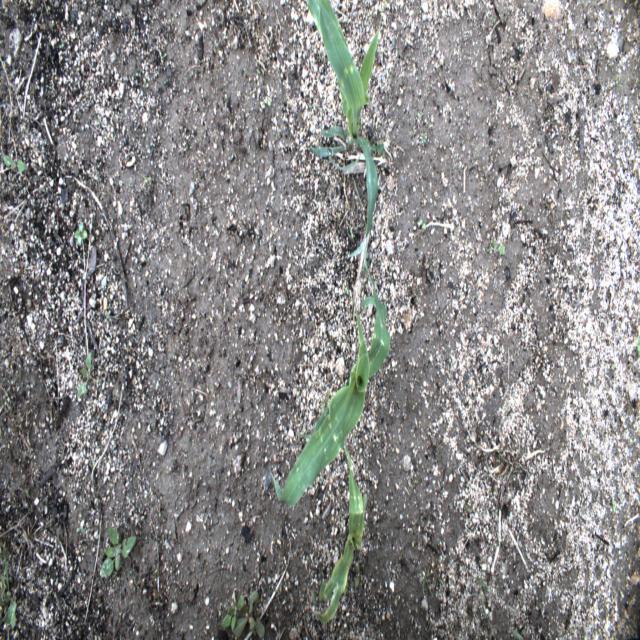crop: (268, 257, 390, 510), (303, 0, 386, 325), (310, 432, 368, 622)
weed: (0, 533, 24, 638), (100, 525, 137, 576), (234, 590, 264, 638), (476, 555, 491, 622), (77, 352, 98, 398), (221, 590, 244, 631), (2, 154, 30, 174), (420, 569, 436, 598), (74, 221, 88, 245), (7, 602, 16, 638), (486, 240, 505, 256), (371, 143, 385, 159), (320, 390, 330, 408), (76, 518, 85, 534), (355, 562, 360, 588), (252, 608, 260, 620), (419, 219, 427, 230), (420, 131, 427, 143), (417, 112, 424, 123), (612, 496, 616, 514), (637, 336, 640, 358), (344, 580, 348, 596), (264, 98, 270, 108), (344, 286, 349, 295), (350, 228, 354, 238)
